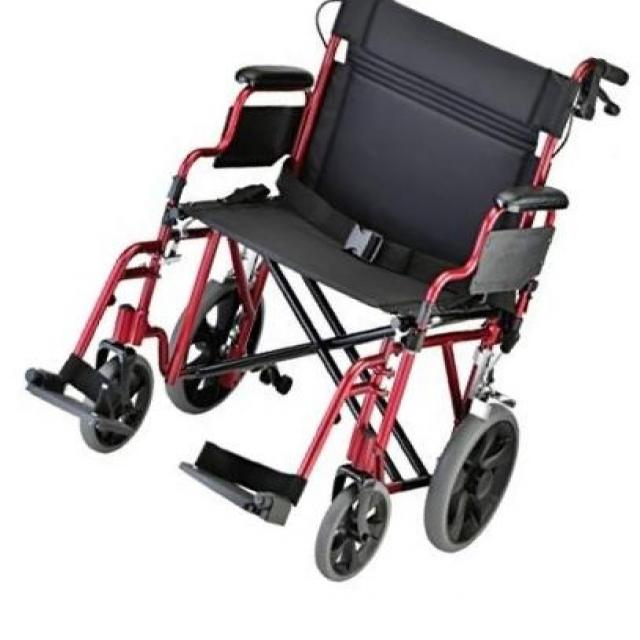wheelchair: (20, 0, 634, 598)
